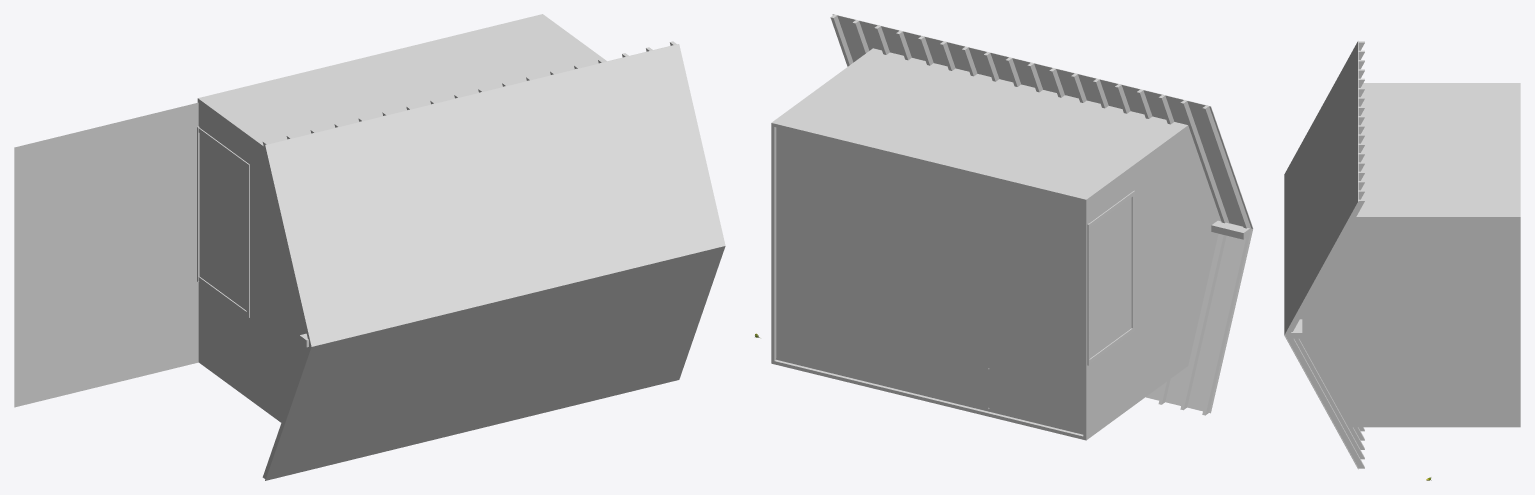
File: test garage.glb
3 renders of one model, left to right at view 1: azimuth 30°, elevation 25°; view 2: azimuth 150°, elevation 25°; view 3: azimuth 270°, elevation 25°, orthographic. The views are drawn at different scales.
Parts seen in each view (by area): view 1: Roof.001, Plane, Wall, Door, Roof; view 2: Floor, Wall, Roof.001, Roof, Door; view 3: Wall, Roof.001, Roof.
Boxes of the visible parts, left/top/right/bottom form: Roof.001: left=265, top=44, right=725, bottom=480; Plane: left=14, top=102, right=198, bottom=407; Wall: left=197, top=14, right=606, bottom=422; Door: left=197, top=126, right=249, bottom=317; Roof: left=262, top=41, right=676, bottom=478; Floor: left=776, top=127, right=1083, bottom=434; Wall: left=771, top=48, right=1220, bottom=440; Roof.001: left=832, top=14, right=1253, bottom=413; Roof: left=830, top=14, right=1251, bottom=415; Door: left=1087, top=190, right=1134, bottom=365; Wall: left=1299, top=83, right=1520, bottom=427; Roof.001: left=1284, top=40, right=1358, bottom=469; Roof: left=1285, top=41, right=1364, bottom=468.
Bounding box in the file's own units: 17.55 × 9.3 × 7.45.
Materials: 20 (1 with a texture image).
